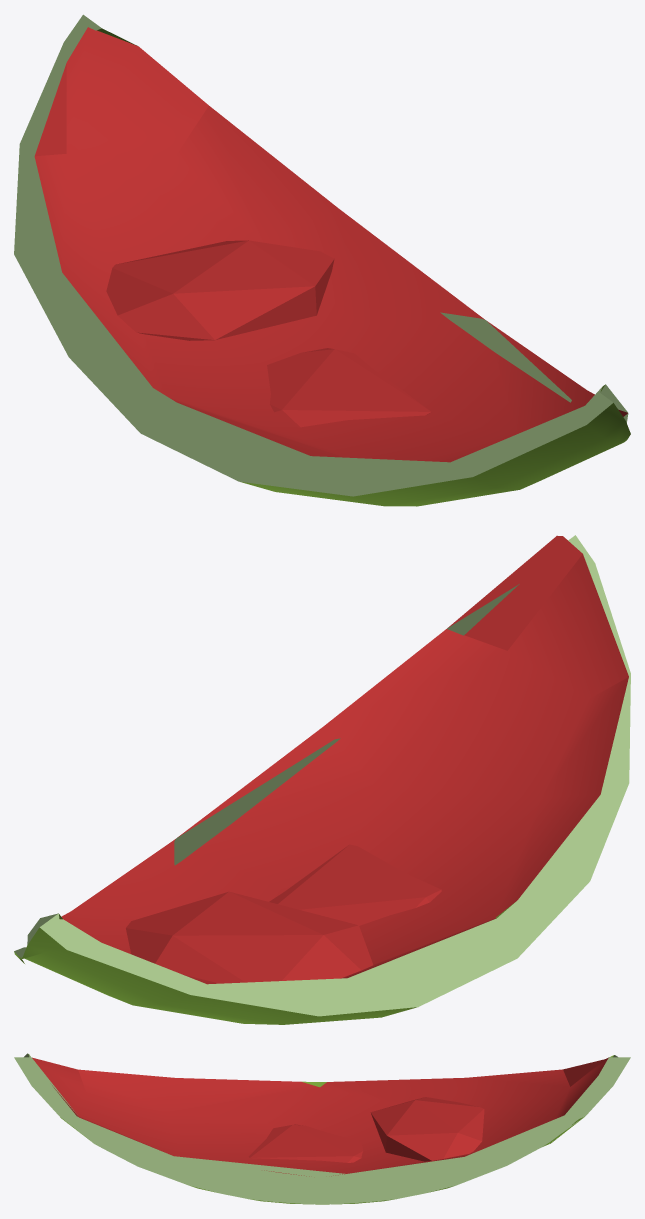
The model's file is watermelon.fbx.
3 views of the same model, one above another, from view 1: azimuth 30°, elevation 25°; view 2: azimuth 150°, elevation 25°; view 3: azimuth 270°, elevation 25° (orthographic). The views are drawn at different scales.
Parts seen in each view (by area): view 1: pSphere6; view 2: pSphere6; view 3: pSphere6.
Boxes of the visible parts, x1=… form: pSphere6: x1=14, y1=14, x2=630, y2=506; pSphere6: x1=14, y1=535, x2=630, y2=1024; pSphere6: x1=14, y1=1053, x2=630, y2=1204.
Bounding box in the file's own units: 5.01 × 3.21 × 13.19.
